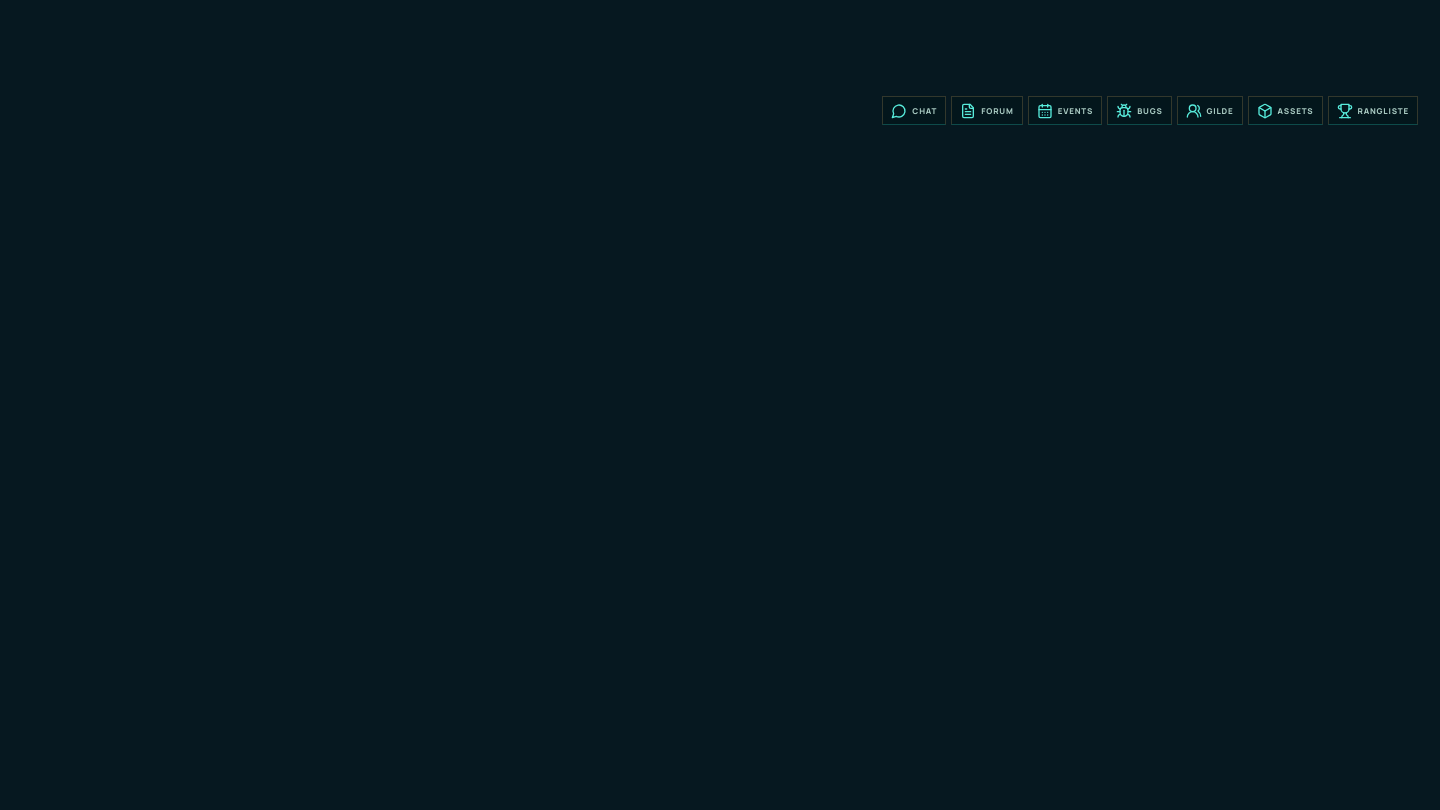
Test: CommunityOverlay › shows the public asset catalog as read-only
What coordinates should you click on to do the following:
click the button with aria-label "Asset-Katalog öffnen"
I would click on:
 (1285, 110)
Its box is [1248,96,1322,125].
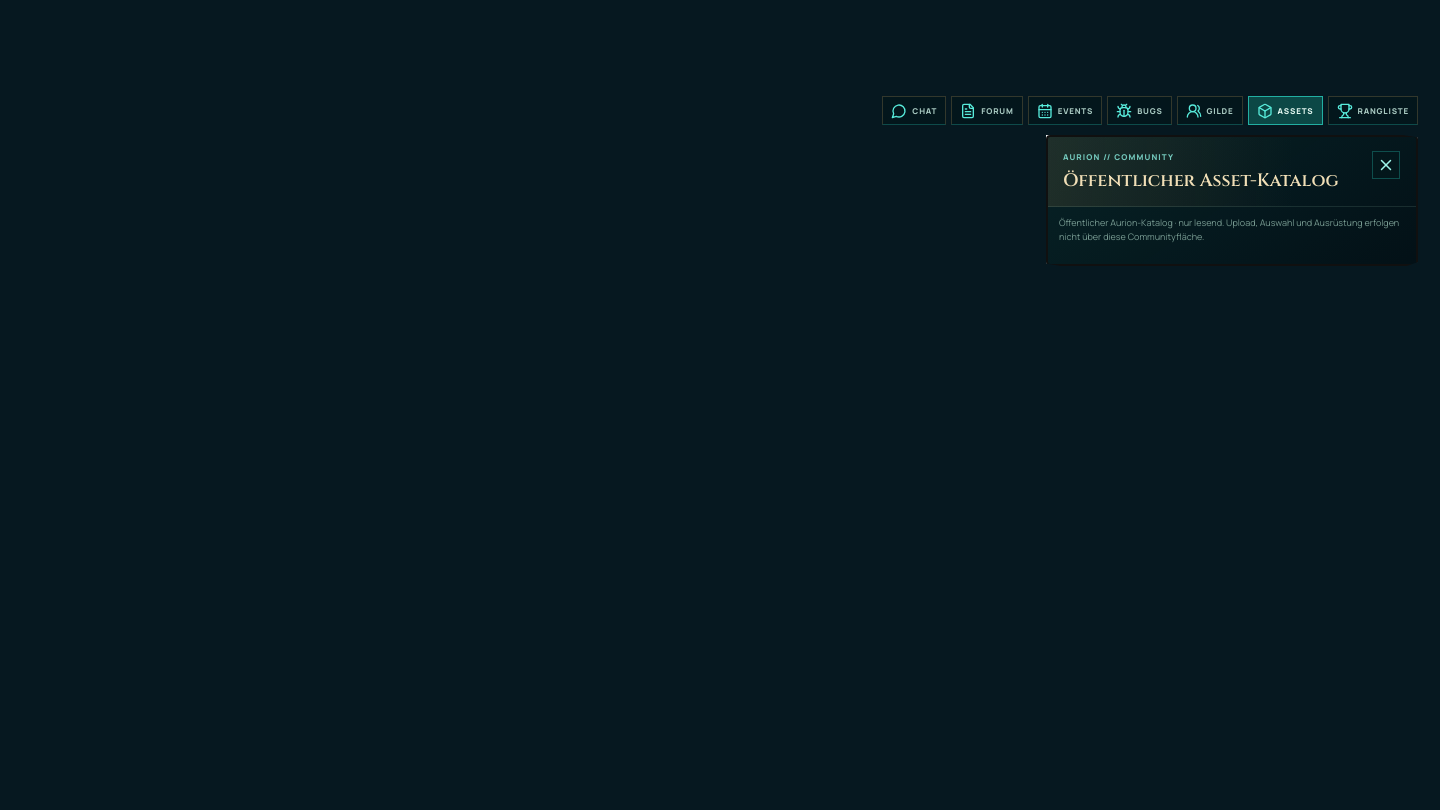
Expected: the text "Öffentlicher Aurion-Katalog · nur lesend" is shown, [1059,216,1399,242]
